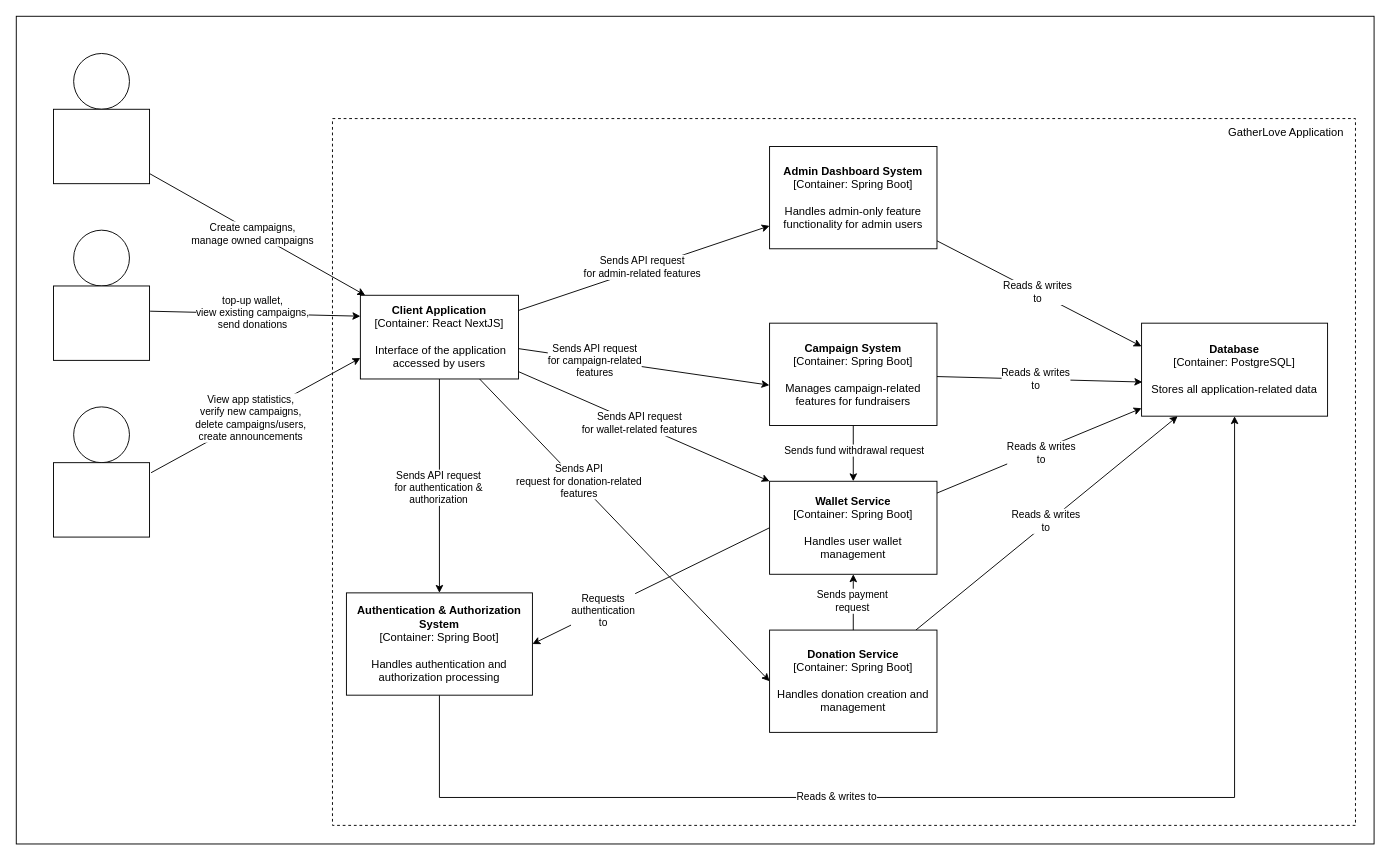
The diagram is 1390 pixels wide and 860 high, and some of its shapes have lost their labels. Here are the shapes that lost their labels. From the top down, the box of each, then its label:
(53, 108, 150, 184): User 1 [Role: fundraiser]
(53, 285, 150, 360): User 2 [Role: donor]
(53, 462, 150, 537): User 3 [Role: admin]
